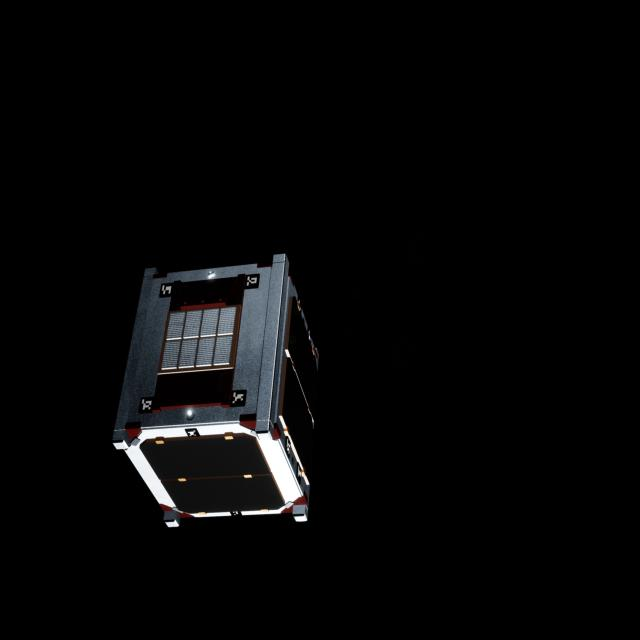medium_debris: (113, 247, 330, 536)
